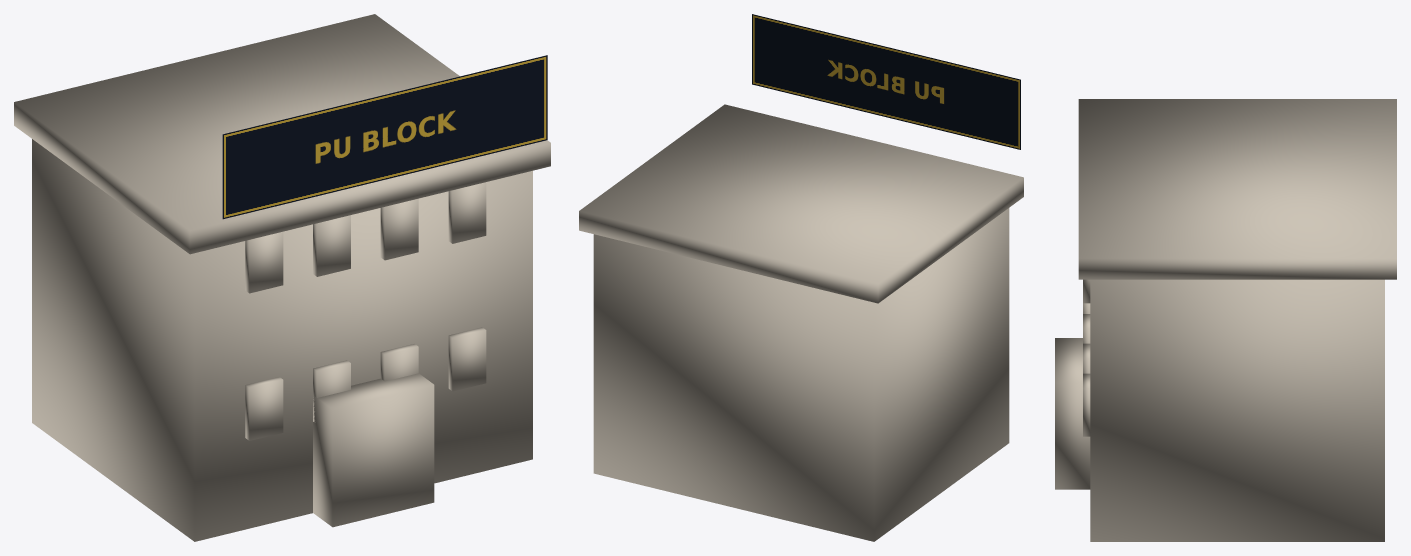
Rendered from pu-block.glb.
The picture shows the model from 3 angles, left to right: view 1: azimuth 30°, elevation 25°; view 2: azimuth 150°, elevation 25°; view 3: azimuth 270°, elevation 25°; orthographic projection. The views are drawn at different scales.
Visible parts, largest first — view 1: Model, Sign; view 2: Model, Sign; view 3: Model.
Part boxes in pixels (x1=…): Model: x1=14, y1=14, x2=550, y2=541; Sign: x1=222, y1=55, x2=547, y2=219; Model: x1=579, y1=104, x2=1023, y2=541; Sign: x1=752, y1=14, x2=1020, y2=149; Model: x1=1055, y1=99, x2=1396, y2=541.
Bounding box in the file's own units: 6.4 × 7.14 × 5.85.
1 material, 1 textured.
